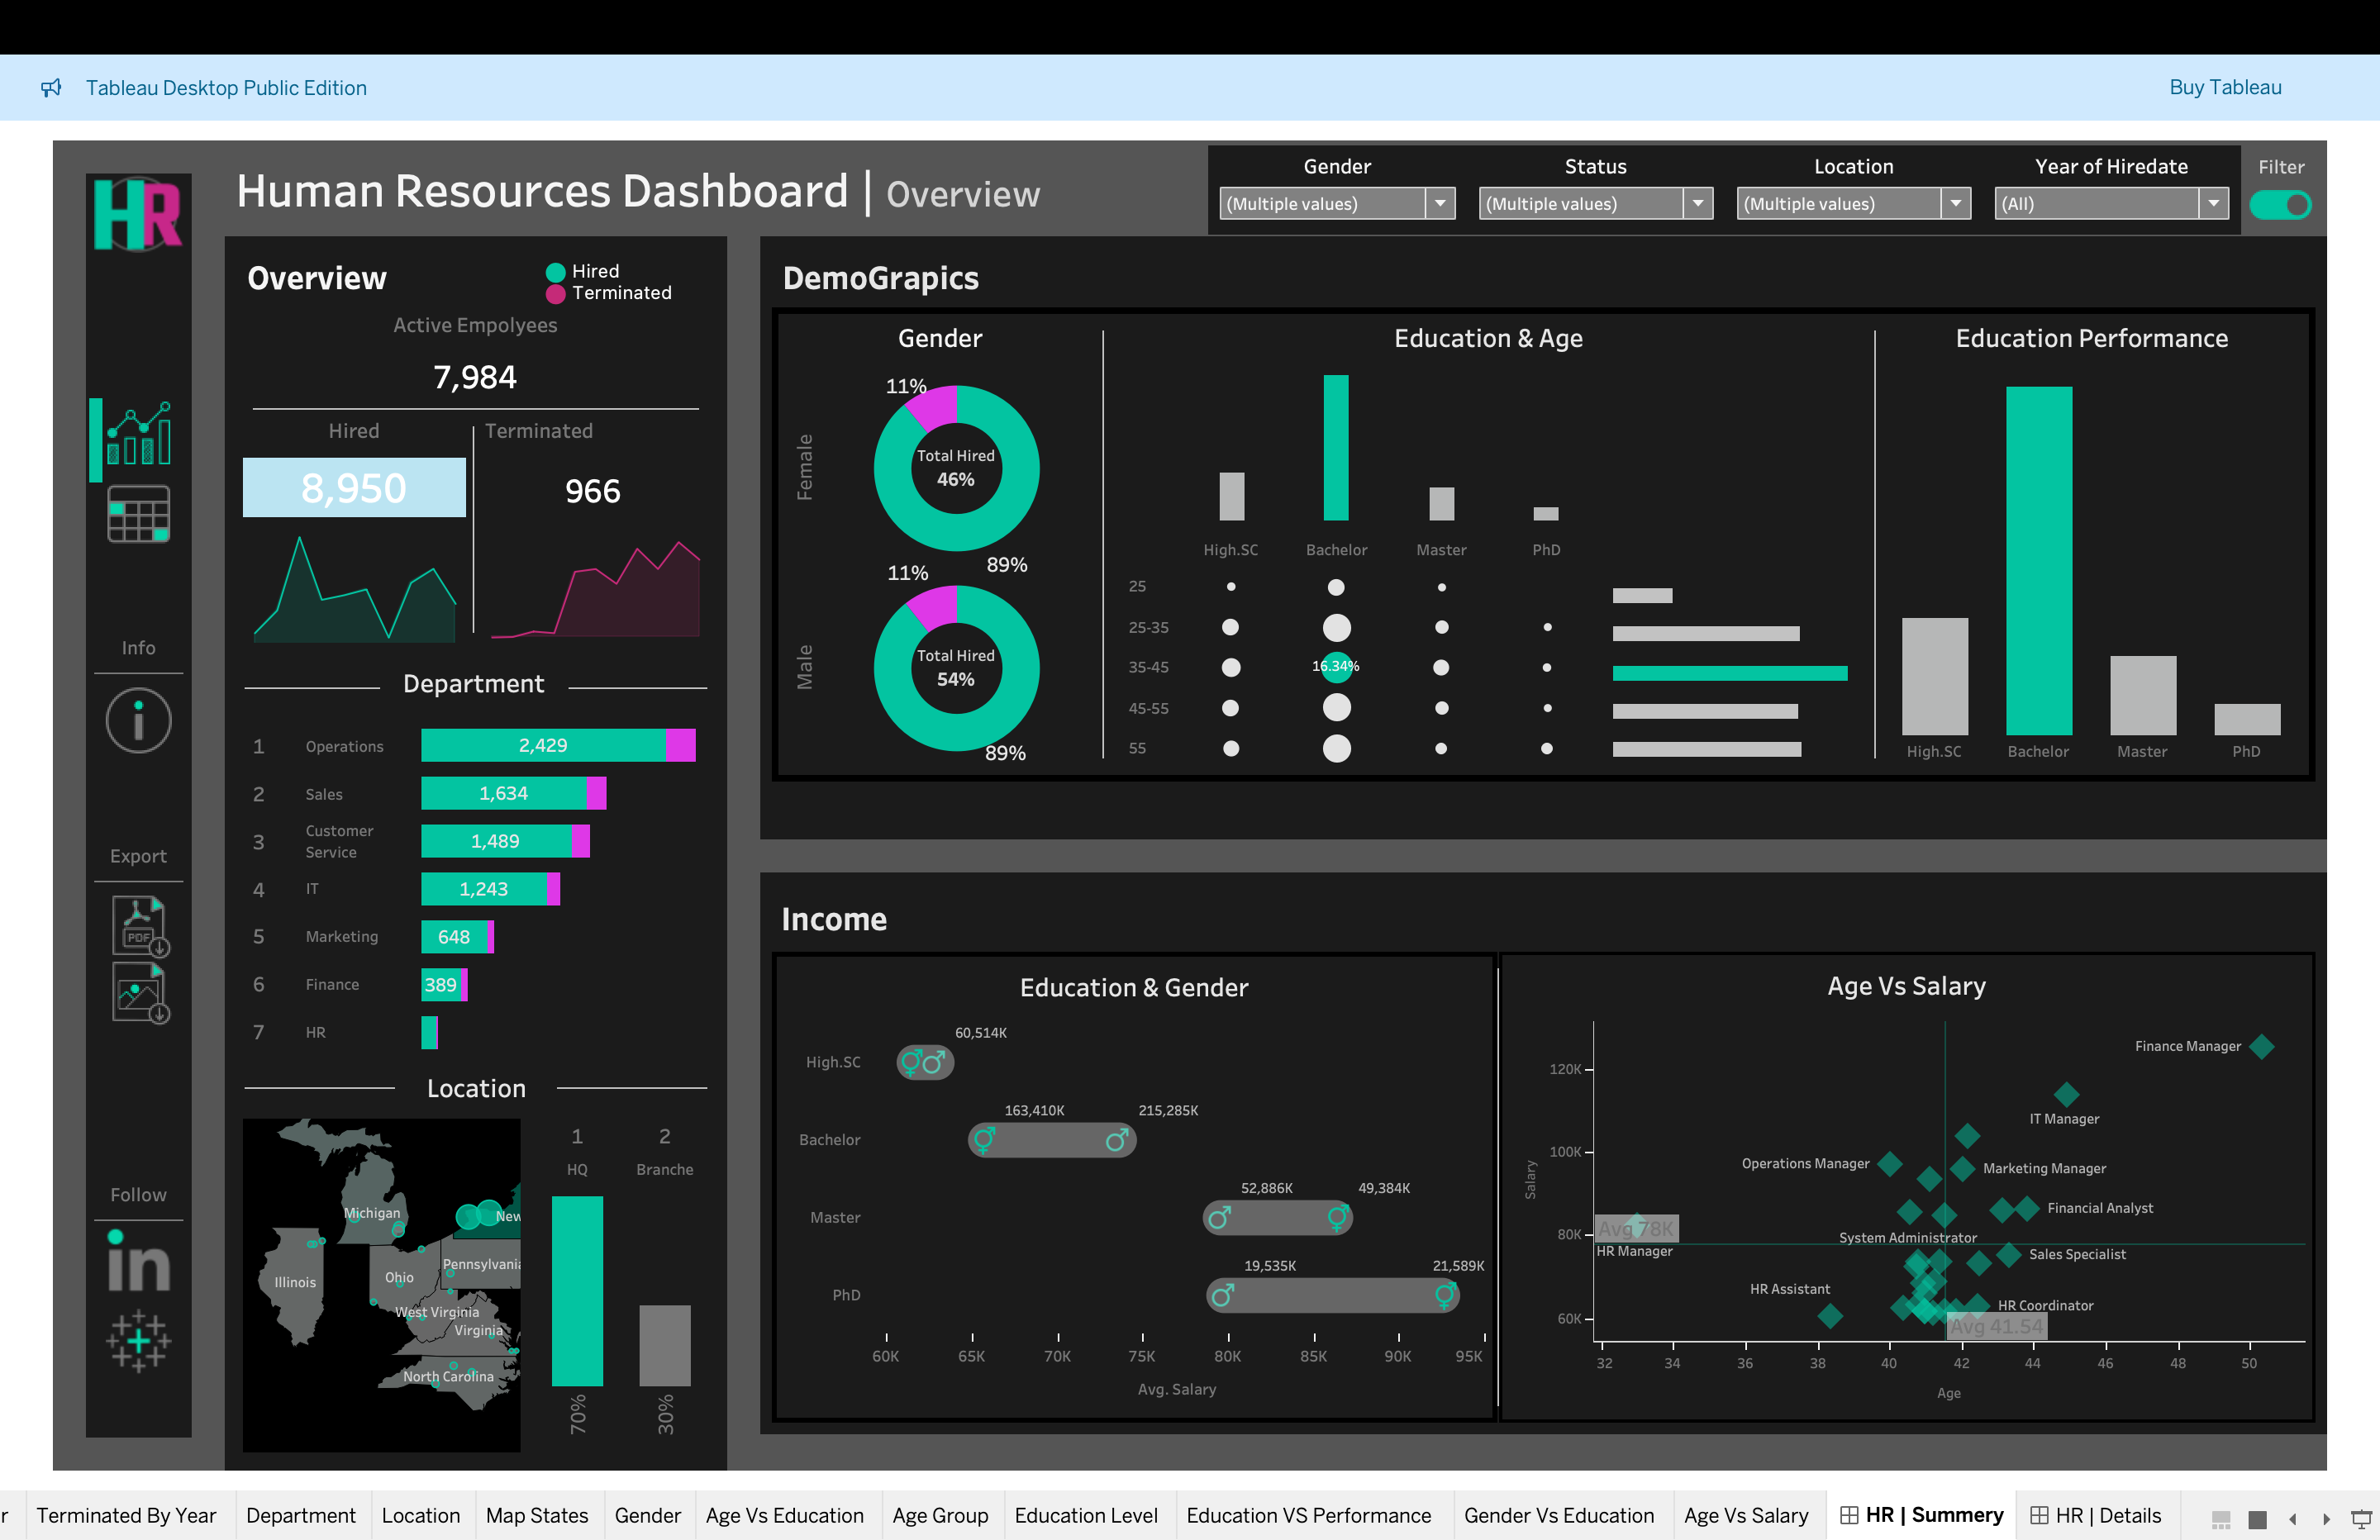

This screenshot's page, from the dashboard's own definition file:
{"tool":"tableau","page":{"name":"HR | Summery","canvas":[1000,1000],"units":"permille","ordinal":1},"visuals":[{"type":"blank","box":[70,0,923.6,309.4]},{"type":"text","box":[82.9,15,482.9,72.5]},{"type":"blank","box":[565.7,15,425.7,72.5]},{"type":"text","box":[960,16.2,40.7,33.8]},{"type":"filter","title":"Age Vs Salary","param":"[federated.06mr3i618qxdck11wm2he1a55tez].[none:Gender:nk]","box":[507.9,17.5,112.1,66.2]},{"type":"filter","title":"Gender Vs Education","param":"[federated.06mr3i618qxdck11wm2he1a55tez].[none:Calculation_112590011225538560:nk","box":[620,17.5,111.4,66.2]},{"type":"filter","title":"Education VS Performance","param":"[federated.06mr3i618qxdck11wm2he1a55tez].[none:Calculation_264797603350908930:nk","box":[731.4,17.5,111.4,66.2]},{"type":"filter","title":"Age Vs Education","param":"[federated.06mr3i618qxdck11wm2he1a55tez].[yr:Hiredate:ok]","box":[842.9,17.5,111.4,66.2]},{"type":"image","param":"Image/Logo.png","box":[22.9,41.2,45.7,58.8]},{"type":"dashboard-object","box":[957.9,42.5,27.9,40]},{"type":"text","box":[218.6,91.2,67.1,52.5]},{"type":"text","box":[87.9,96.2,207.1,42.5]},{"type":"text","box":[319.3,96.2,667.1,42.5]},{"type":"blank","box":[22.9,100,45.7,112.5]},{"type":"text","box":[87.9,138.8,207.1,31.2]},{"type":"text","box":[322.1,146.2,140,36.2]},{"type":"blank","box":[462.1,146.2,0.7,348.8]},{"type":"text","box":[466.4,146.2,325.7,36.2]},{"type":"blank","box":[795.7,146.2,0.7,348.8]},{"type":"text","box":[796.4,146.2,187.2,36.2]},{"type":"worksheet","title":"Total Acitve","mark":"Automatic","box":[87.9,170,207.1,47.5]},{"type":"worksheet","title":"Gender","mark":"Pie","rows":["Gender"],"cols":["Calculation_264797603359240198","Calculation_264797603359240198"],"box":[322.1,182.5,140,312.5]},{"type":"worksheet","title":"Education Level","mark":"Bar","rows":["Calculation_238761167989252096"],"cols":["Education Level"],"box":[466.4,182.5,325.7,125]},{"type":"worksheet","title":"Education VS Performance","mark":"Bar","rows":["Calculation_238761167989252096"],"cols":["Education Level"],"box":[796.4,182.5,187.2,312.5]},{"type":"blank","box":[24.3,202.5,5.7,61.2]},{"type":"dashboard-object","box":[23.6,212.5,44.3,47.5]},{"type":"blank","box":[87.9,217.5,207.1,1.2]},{"type":"text","box":[87.9,218.8,102.1,31.2]},{"type":"blank","box":[190,218.8,0.7,181.2]},{"type":"text","box":[190.7,218.8,104.3,31.2]},{"type":"worksheet","title":"Total Hired","mark":"Automatic","box":[87.9,250,102.1,55]},{"type":"worksheet","title":"Total Terminated","mark":"Automatic","box":[190.7,250,104.3,58.8]},{"type":"blank","box":[23.6,260,44.3,13.8]},{"type":"dashboard-object","box":[23.6,273.8,44.3,47.5]},{"type":"worksheet","title":"Hired By Year","mark":"Line","rows":["Calculation_238761167989252096","Calculation_238761167989252096"],"cols":["Hiredate"],"box":[87.9,305,102.1,95]},{"type":"worksheet","title":"Age Vs Education","mark":"Circle","rows":["Calculation_264797603363221513"],"cols":["Education Level"],"box":[466.4,307.5,213.6,187.5]},{"type":"worksheet","title":"Age Group","mark":"Bar","rows":["Calculation_264797603363221513"],"cols":["Calculation_238761167989252096"],"box":[680,307.5,112.1,187.5]},{"type":"worksheet","title":"Terminated By Year","mark":"Line","rows":["Calculation_238761167990038529","Calculation_238761167990038529"],"cols":["Termdate"],"box":[190.7,308.8,104.3,91.2]},{"type":"text","box":[70,309.4,923.6,381.2]},{"type":"blank","box":[23.6,321.2,44.3,62.5]},{"type":"text","box":[23.6,383.8,44.3,28.8]},{"type":"blank","box":[87.9,400,65.7,50]},{"type":"text","box":[153.6,400,74.3,50]},{"type":"blank","box":[227.8,400,67.1,50]},{"type":"blank","box":[23.6,412.5,44.3,11.2]},{"type":"dashboard-object","box":[23.6,423.8,44.3,55]},{"type":"worksheet","title":"Department","mark":"Bar","rows":["Calculation_264797603349704705","Department"],"cols":["Calculation_238761167989252096"],"box":[87.9,450,207.1,238.7]},{"type":"blank","box":[23.6,478.8,44.3,62.5]},{"type":"text","box":[23.6,541.2,44.3,28.8]},{"type":"text","box":[319.3,568.8,667.1,51.2]},{"type":"blank","box":[23.6,570,44.3,11.2]},{"type":"dashboard-object","box":[23.6,581.2,44.3,53.8]},{"type":"blank","box":[632.9,620,0.7,356.2]},{"type":"text","box":[635,622.5,350,45]},{"type":"text","box":[321.4,623.8,309.3,45]},{"type":"dashboard-object","box":[23.6,635,44.3,50]},{"type":"worksheet","title":"Age Vs Salary","mark":"Shape","rows":["Salary"],"cols":["Calculation_264797603362271240"],"box":[635,667.5,350,306.2]},{"type":"worksheet","title":"Gender Vs Education","mark":"Line","rows":["Education Level"],"cols":["Salary","Salary"],"box":[321.4,668.8,309.3,303.8]},{"type":"blank","box":[23.6,685,44.3,112.5]},{"type":"blank","box":[87.9,688.7,71.9,37.5]},{"type":"text","box":[159.8,688.7,63.3,37.5]},{"type":"blank","box":[223.1,688.7,71.9,37.5]},{"type":"blank","box":[70,690.6,923.6,309.4]},{"type":"worksheet","title":"Map States","mark":"Automatic","box":[87.9,726.2,125.7,250.1]},{"type":"worksheet","title":"Location","mark":"Bar","rows":["Calculation_238761167989252096"],"cols":["Calculation_264797603350908930","Calculation1"],"box":[213.6,726.2,81.4,250.1]},{"type":"text","box":[23.6,797.5,44.3,28.8]},{"type":"blank","box":[23.6,826.2,44.3,11.2]},{"type":"image","param":"Image/contact-linkedin.png","box":[23.6,837.5,44.3,50]},{"type":"blank","box":[23.6,887.5,44.3,11.2]},{"type":"image","param":"Image/contact-public.png","box":[23.6,898.8,44.3,50]}]}

Visuals, with their boxes on the dashboard's canvas, which has no fixed pixel size, in thousandths of its width and height (x1, y1, x2, y2). These are canvas units, not pixel positions in the 2380x1540 screenshot, which may show the page scaled, cropped or inside an application window:
blank: bbox=[70, 0, 994, 309]
text: bbox=[83, 15, 566, 88]
blank: bbox=[566, 15, 991, 88]
text: bbox=[960, 16, 1001, 50]
"Age Vs Salary" filter: bbox=[508, 18, 620, 84]
"Gender Vs Education" filter: bbox=[620, 18, 731, 84]
"Education VS Performance" filter: bbox=[731, 18, 843, 84]
"Age Vs Education" filter: bbox=[843, 18, 954, 84]
image: bbox=[23, 41, 69, 100]
dashboard-object: bbox=[958, 42, 986, 82]
text: bbox=[219, 91, 286, 144]
text: bbox=[88, 96, 295, 139]
text: bbox=[319, 96, 986, 139]
blank: bbox=[23, 100, 69, 212]
text: bbox=[88, 139, 295, 170]
text: bbox=[322, 146, 462, 182]
blank: bbox=[462, 146, 463, 495]
text: bbox=[466, 146, 792, 182]
blank: bbox=[796, 146, 796, 495]
text: bbox=[796, 146, 984, 182]
"Total Acitve" worksheet: bbox=[88, 170, 295, 218]
"Gender" worksheet (Pie marks): bbox=[322, 182, 462, 495]
"Education Level" worksheet (Bar marks): bbox=[466, 182, 792, 308]
"Education VS Performance" worksheet (Bar marks): bbox=[796, 182, 984, 495]
blank: bbox=[24, 202, 30, 264]
dashboard-object: bbox=[24, 212, 68, 260]
blank: bbox=[88, 218, 295, 219]
text: bbox=[88, 219, 190, 250]
blank: bbox=[190, 219, 191, 400]
text: bbox=[191, 219, 295, 250]
"Total Hired" worksheet: bbox=[88, 250, 190, 305]
"Total Terminated" worksheet: bbox=[191, 250, 295, 309]
blank: bbox=[24, 260, 68, 274]
dashboard-object: bbox=[24, 274, 68, 321]
"Hired By Year" worksheet (Line marks): bbox=[88, 305, 190, 400]
"Age Vs Education" worksheet (Circle marks): bbox=[466, 308, 680, 495]
"Age Group" worksheet (Bar marks): bbox=[680, 308, 792, 495]
"Terminated By Year" worksheet (Line marks): bbox=[191, 309, 295, 400]
text: bbox=[70, 309, 994, 691]
blank: bbox=[24, 321, 68, 384]
text: bbox=[24, 384, 68, 413]
blank: bbox=[88, 400, 154, 450]
text: bbox=[154, 400, 228, 450]
blank: bbox=[228, 400, 295, 450]
blank: bbox=[24, 412, 68, 424]
dashboard-object: bbox=[24, 424, 68, 479]
"Department" worksheet (Bar marks): bbox=[88, 450, 295, 689]
blank: bbox=[24, 479, 68, 541]
text: bbox=[24, 541, 68, 570]
text: bbox=[319, 569, 986, 620]
blank: bbox=[24, 570, 68, 581]
dashboard-object: bbox=[24, 581, 68, 635]
blank: bbox=[633, 620, 634, 976]
text: bbox=[635, 622, 985, 668]
text: bbox=[321, 624, 631, 669]
dashboard-object: bbox=[24, 635, 68, 685]
"Age Vs Salary" worksheet (Shape marks): bbox=[635, 668, 985, 974]
"Gender Vs Education" worksheet (Line marks): bbox=[321, 669, 631, 973]
blank: bbox=[24, 685, 68, 798]
blank: bbox=[88, 689, 160, 726]
text: bbox=[160, 689, 223, 726]
blank: bbox=[223, 689, 295, 726]
blank: bbox=[70, 691, 994, 1000]
"Map States" worksheet: bbox=[88, 726, 214, 976]
"Location" worksheet (Bar marks): bbox=[214, 726, 295, 976]
text: bbox=[24, 798, 68, 826]
blank: bbox=[24, 826, 68, 837]
image: bbox=[24, 838, 68, 888]
blank: bbox=[24, 888, 68, 899]
image: bbox=[24, 899, 68, 949]
